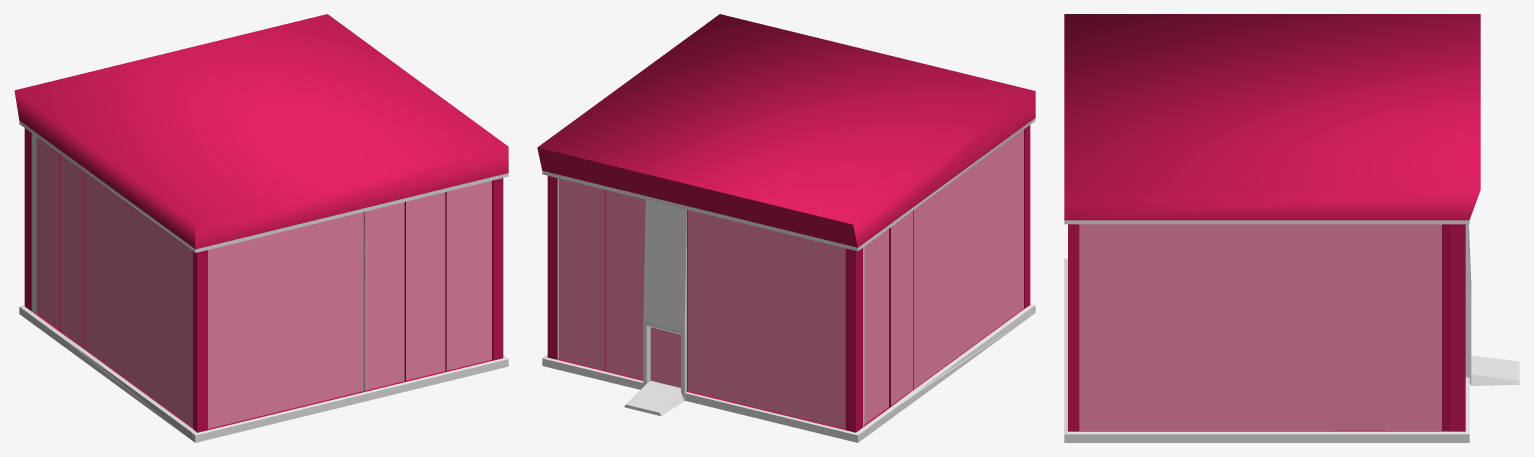
The model's file is Shop6x6x4Pink.fbx.
3 views of the same model, side by side, from view 1: azimuth 30°, elevation 25°; view 2: azimuth 150°, elevation 25°; view 3: azimuth 270°, elevation 25° (orthographic). The views are drawn at different scales.
Parts seen in each view (by area): view 1: Shop.001; view 2: Shop.001; view 3: Shop.001.
Part boxes in pixels (bbox=[...]): Shop.001: bbox=[14, 14, 508, 442]; Shop.001: bbox=[537, 14, 1035, 442]; Shop.001: bbox=[1064, 14, 1519, 442].
Bounding box in the file's own units: 5.92 × 3.98 × 6.49.
Materials: 1 (1 with a texture image).
